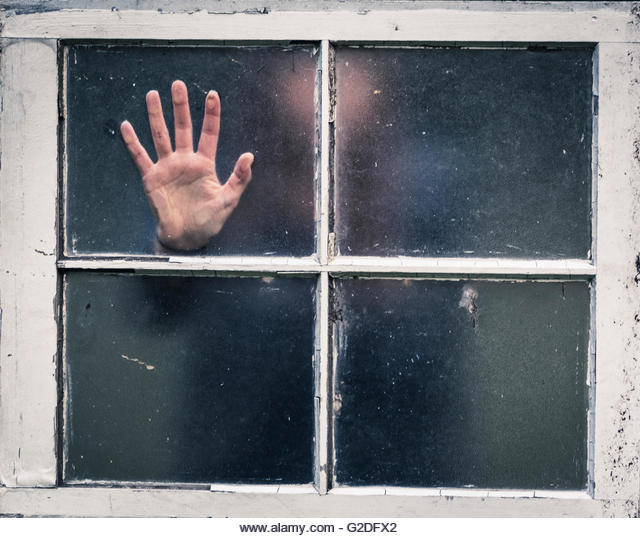hand: (94, 74, 277, 253)
